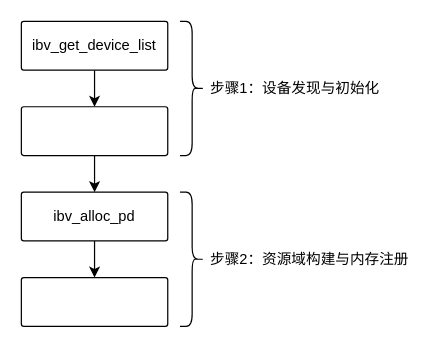
This 447x348 diagram has some shape labels left out. Here are the shapes that lost their labels. From the top down, the centre of each, then its label:
the point at 94,131: ibv_open_device
the point at 94,301: ibv_reg_mr
